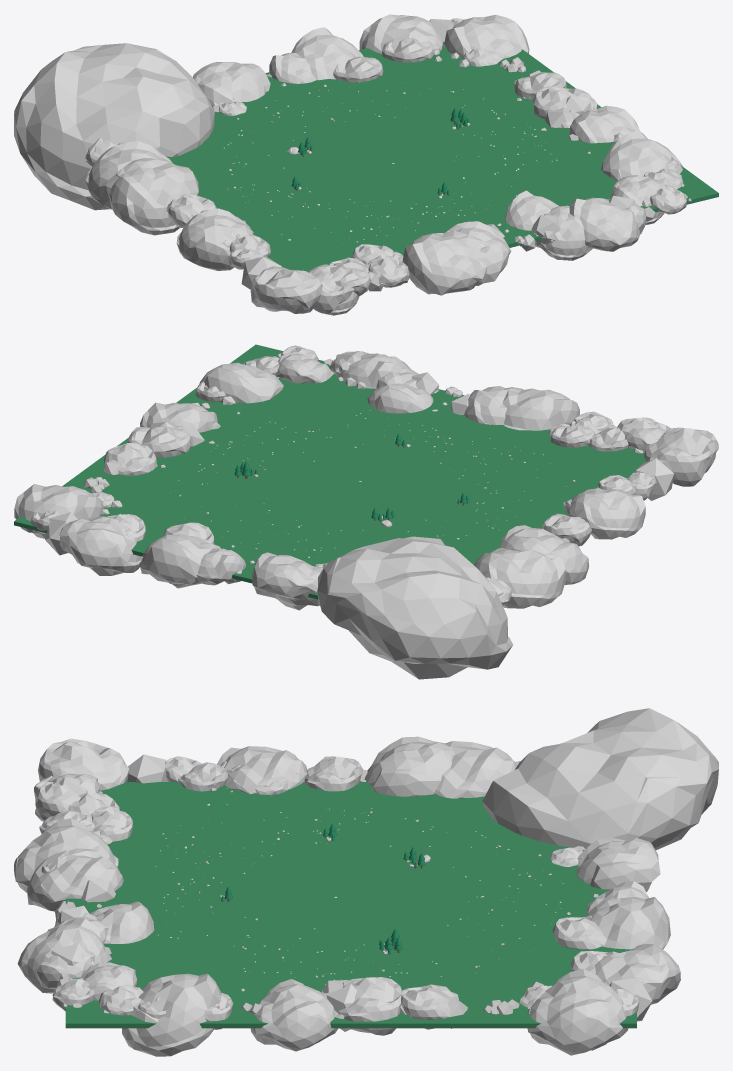
The picture shows the model from 3 angles, top to bottom: view 1: azimuth 30°, elevation 25°; view 2: azimuth 150°, elevation 25°; view 3: azimuth 270°, elevation 25°; orthographic projection. The views are drawn at different scales.
Parts seen in each view (by area): view 1: Ground, Icosphere.001 - copy.002 - copy (×15), Icosphere.010, Icosphere - copy.002 - copy (×7), Icosphere - copy.003 - copy - copy, Icosphere.001 - copy.002 - copy - copy, Icosphere - copy.003 (×3), Icosphere.001 - copy.002 - copy.001, Icosphere - copy.002 - copy.002, Icosphere.009 - copy.001 - copy (×2), Icosphere - copy.002 - copy - copy; view 2: Ground, Icosphere.001 - copy.002 - copy (×14), Icosphere.010, Icosphere.001 - copy.002 - copy.001, Icosphere - copy.003 - copy - copy, Icosphere - copy.003 (×3), Icosphere.001 - copy.002 - copy - copy, Icosphere - copy.002 - copy (×2), Icosphere - copy.002 - copy.002, Icosphere.009 - copy.001 - copy, Icosphere.009 - copy.001 - copy.001, Icosphere - copy.002 - copy - copy; view 3: Ground, Icosphere.001 - copy.002 - copy (×15), Icosphere.010, Icosphere - copy.002 - copy (×6), Icosphere.001 - copy.002 - copy - copy, Icosphere - copy.003 (×4), Icosphere - copy.003 - copy - copy, Icosphere.001 - copy.002 - copy.001, Icosphere - copy.002 - copy.002, Icosphere.009 - copy.001 - copy (×3), Icosphere.009 - copy.001 - copy.001, Icosphere - copy.002 - copy - copy.
Part boxes in pixels (x1,y1,x2,y2): Ground: (166, 42, 718, 272); Icosphere.001 - copy.002 - copy (×15): (85, 27, 682, 315); Icosphere.010: (14, 43, 214, 210); Icosphere - copy.002 - copy (×7): (168, 49, 503, 314); Icosphere - copy.003 - copy - copy: (250, 266, 322, 313); Icosphere.001 - copy.002 - copy - copy: (444, 14, 529, 58); Icosphere - copy.003 (×3): (353, 72, 686, 263); Icosphere.001 - copy.002 - copy.001: (359, 14, 442, 54); Icosphere - copy.002 - copy.002: (532, 87, 597, 119); Icosphere.009 - copy.001 - copy (×2): (241, 215, 560, 289); Icosphere - copy.002 - copy - copy: (381, 38, 433, 62); Ground: (14, 344, 646, 599); Icosphere.001 - copy.002 - copy (×14): (139, 351, 666, 610); Icosphere.010: (317, 536, 513, 679); Icosphere.001 - copy.002 - copy.001: (59, 516, 141, 575); Icosphere - copy.003 - copy - copy: (644, 427, 718, 486); Icosphere - copy.003 (×3): (104, 425, 628, 475); Icosphere.001 - copy.002 - copy - copy: (14, 484, 103, 538); Icosphere - copy.002 - copy (×2): (162, 513, 591, 546); Icosphere - copy.002 - copy.002: (127, 426, 191, 457); Icosphere.009 - copy.001 - copy: (635, 458, 674, 500); Icosphere.009 - copy.001 - copy.001: (45, 512, 77, 555); Icosphere - copy.002 - copy - copy: (107, 514, 145, 541); Ground: (65, 782, 636, 1028); Icosphere.001 - copy.002 - copy (×15): (14, 736, 670, 1056); Icosphere.010: (482, 708, 718, 850); Icosphere - copy.002 - copy (×6): (36, 756, 605, 1015); Icosphere.001 - copy.002 - copy - copy: (527, 969, 628, 1055); Icosphere - copy.003 (×4): (52, 793, 458, 1029); Icosphere - copy.003 - copy - copy: (38, 738, 128, 790); Icosphere.001 - copy.002 - copy.001: (595, 944, 680, 1004); Icosphere - copy.002 - copy.002: (337, 977, 402, 1035); Icosphere.009 - copy.001 - copy (×3): (81, 754, 356, 1031); Icosphere.009 - copy.001 - copy.001: (609, 977, 652, 1021); Icosphere - copy.002 - copy - copy: (570, 951, 618, 973).
Bounding box in the file's own units: 86.95 × 19.5 × 90.97.
